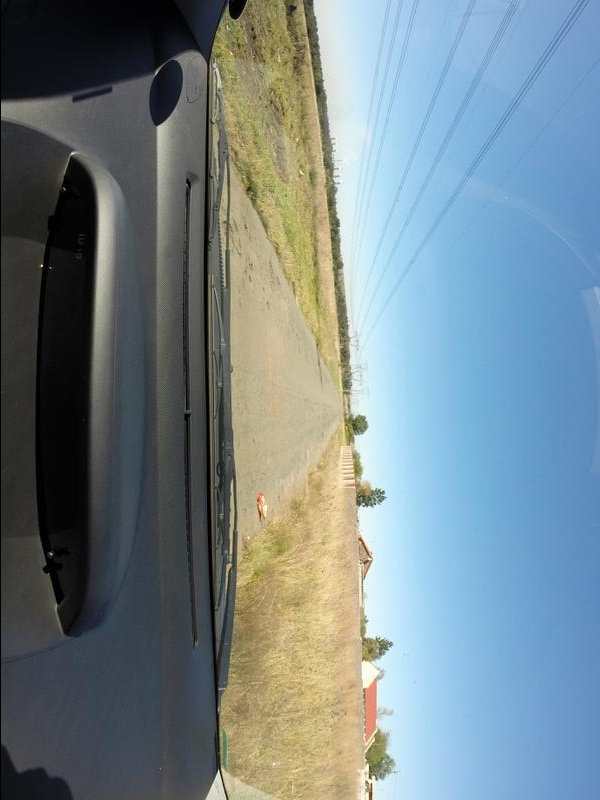pothole: (223, 227, 234, 249), (266, 259, 271, 291), (261, 303, 271, 315), (275, 274, 282, 290), (241, 223, 249, 235), (250, 265, 255, 273)
